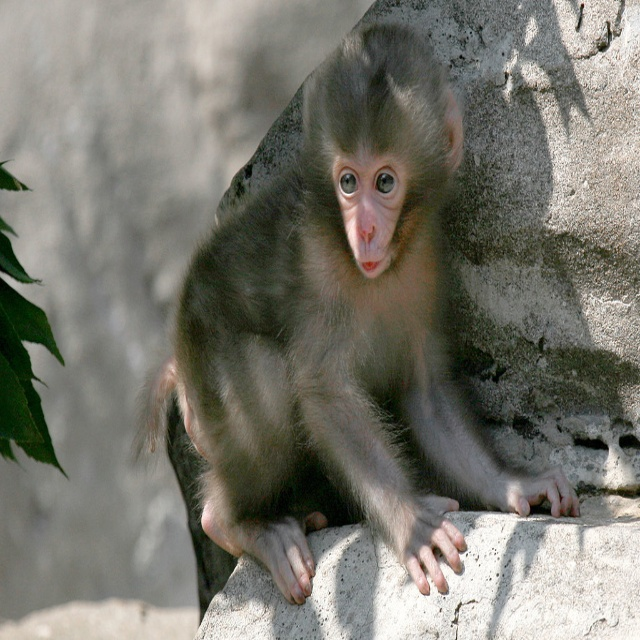Monkey: (130, 20, 581, 603)
